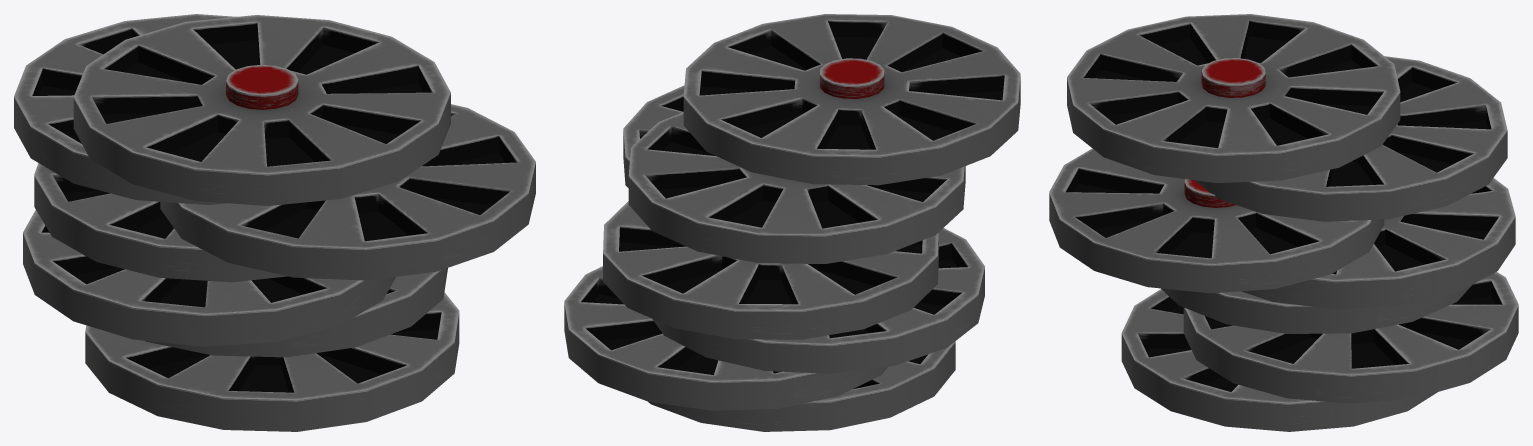
File: WheelPile_1.fbx
3 renders of one model, left to right at view 1: azimuth 30°, elevation 25°; view 2: azimuth 150°, elevation 25°; view 3: azimuth 270°, elevation 25°, orthographic. The views are drawn at different scales.
Visible parts, largest first — view 1: Wheel Pile 1; view 2: Wheel Pile 1; view 3: Wheel Pile 1.
Boxes of the visible parts, bbox=[...] form: Wheel Pile 1: bbox=[14, 14, 535, 431]; Wheel Pile 1: bbox=[564, 14, 1020, 431]; Wheel Pile 1: bbox=[1049, 14, 1518, 431].
Bounding box in the file's own units: 36.85 × 26.55 × 41.59.
1 material, 1 textured.
